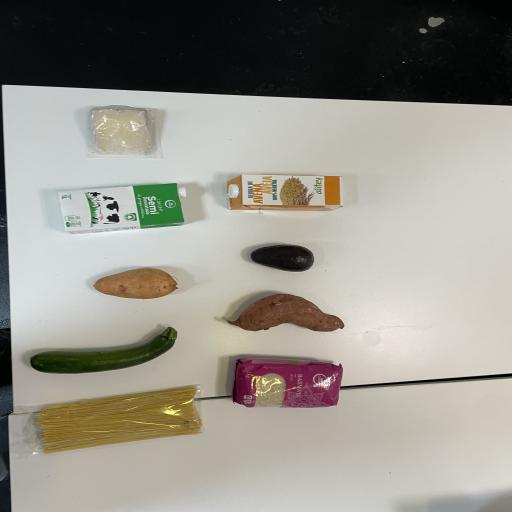avocado: (242, 240, 323, 274)
courgette: (26, 322, 183, 376)
cured_goat_cheese: (78, 99, 168, 157)
milk: (50, 182, 195, 236)
oat_milk: (218, 167, 350, 220)
rice: (225, 348, 354, 414)
spaghetti: (26, 380, 207, 456)
sweet_potato: (215, 285, 345, 340), (90, 258, 195, 302)
